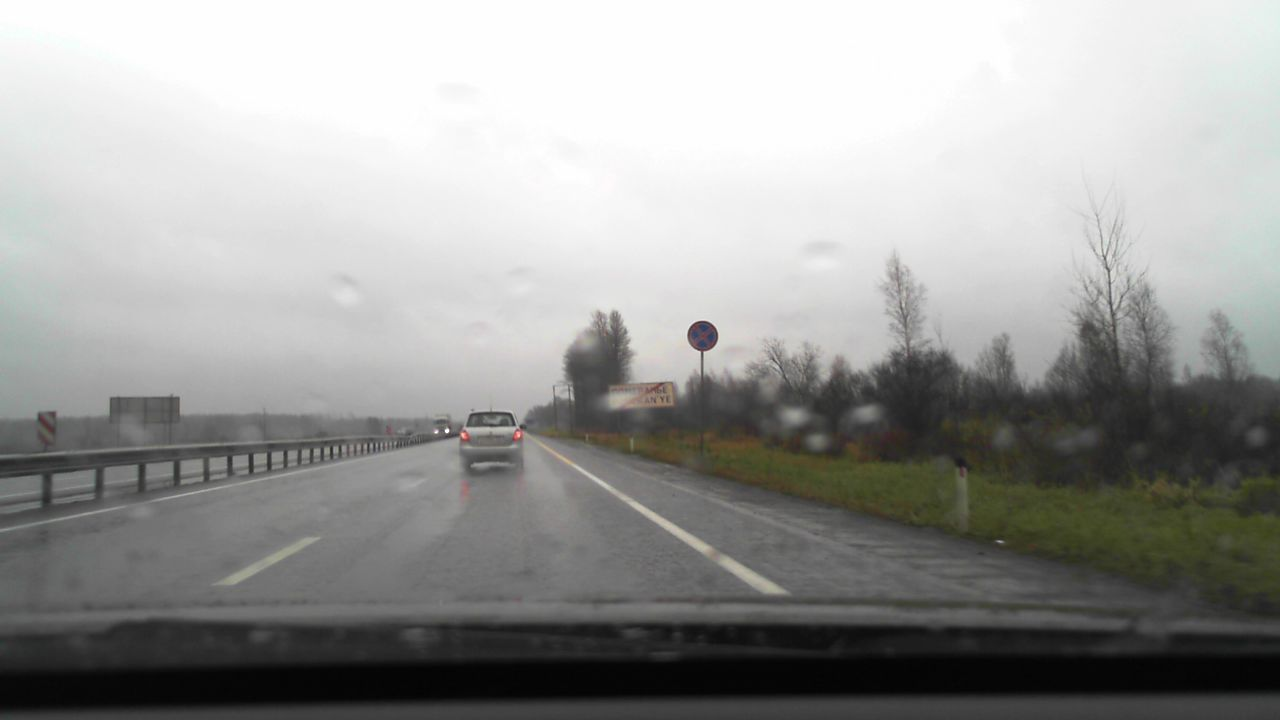No Parking: (687, 320, 718, 351)
